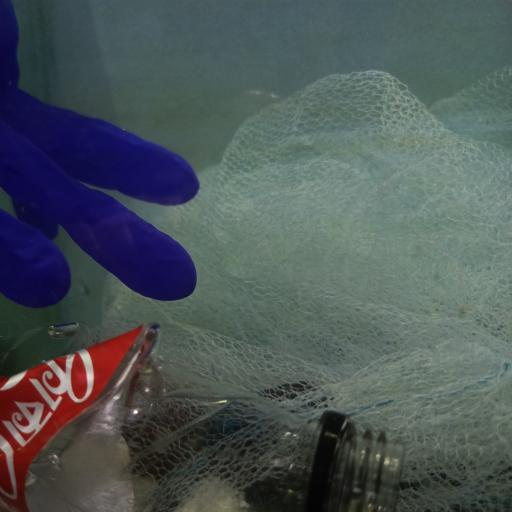glove: (2, 0, 197, 306)
net: (109, 69, 512, 512)
plastic_bottle: (2, 319, 406, 512)
